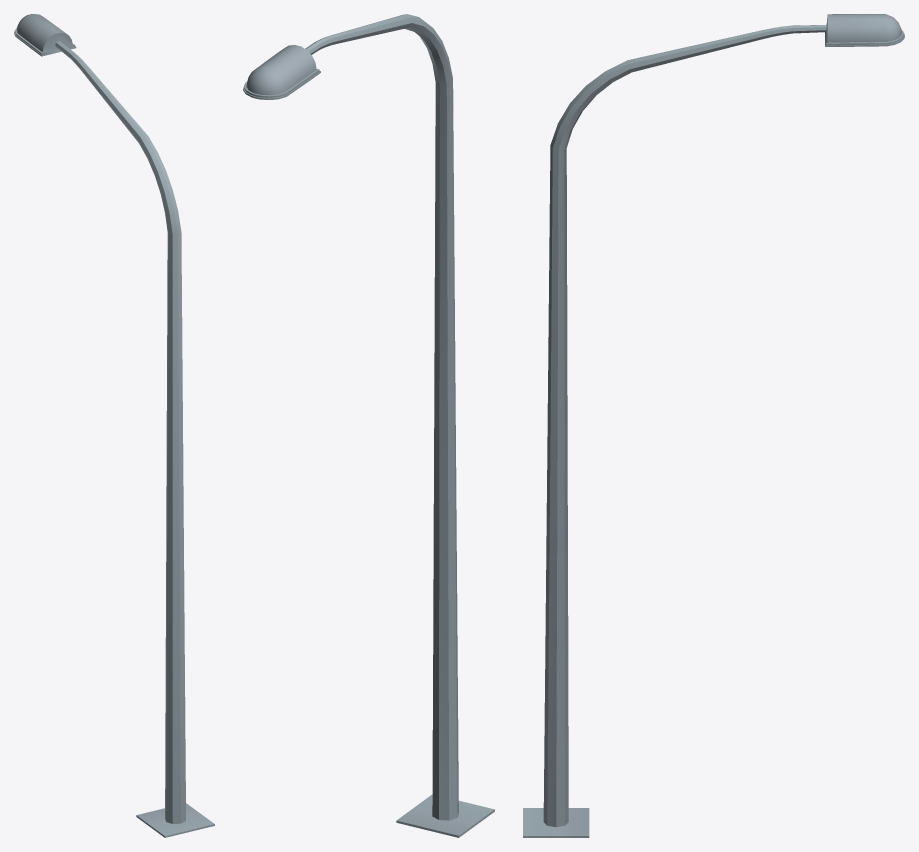
File: Light.fbx
The picture shows the model from 3 angles, left to right: view 1: azimuth 30°, elevation 25°; view 2: azimuth 150°, elevation 25°; view 3: azimuth 270°, elevation 25°; orthographic projection. The views are drawn at different scales.
Visible parts, largest first — view 1: Light; view 2: Light; view 3: Light.
Part boxes in pixels (x1=…): Light: x1=14, y1=14, x2=214, y2=837; Light: x1=243, y1=14, x2=494, y2=837; Light: x1=523, y1=14, x2=904, y2=837.
Size of the model in its own units: 0.3526 by 4.75 by 2.03.
1 material, 1 textured.
